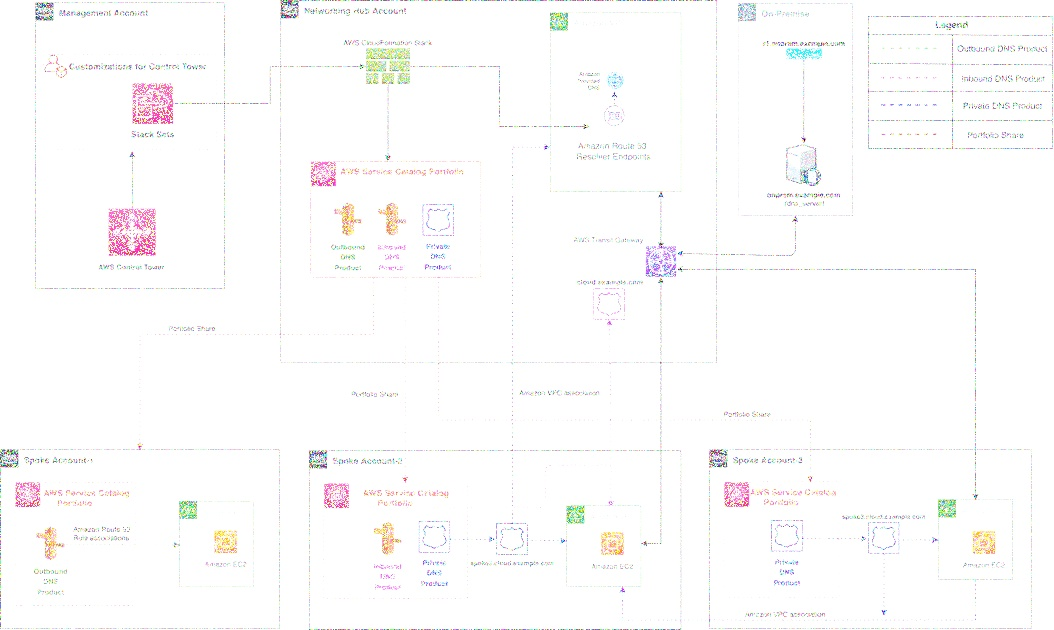CloudFormation Stack: (127, 75, 179, 129), (363, 47, 413, 88)
Control Tower: (105, 205, 162, 259)
EC2: (970, 528, 999, 556), (213, 528, 240, 556), (600, 530, 627, 558)
Route53: (420, 193, 462, 239), (415, 515, 455, 557), (327, 197, 367, 238), (767, 515, 808, 555), (492, 518, 535, 556), (591, 284, 629, 325), (373, 196, 408, 239), (865, 518, 905, 554), (372, 516, 405, 558), (35, 523, 67, 562)
Server: (781, 141, 827, 192)
Service Catalog: (14, 480, 43, 510), (323, 481, 351, 509), (311, 160, 338, 188), (724, 481, 749, 507)
Transit Gateway: (646, 244, 679, 278)
aws: (32, 0, 55, 23), (279, 0, 301, 22), (0, 448, 20, 470), (308, 448, 328, 470), (710, 447, 729, 470)
